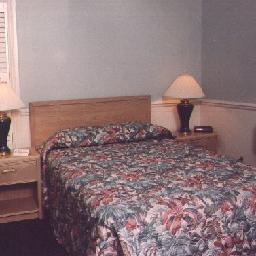Cama: (40, 114, 250, 252)
